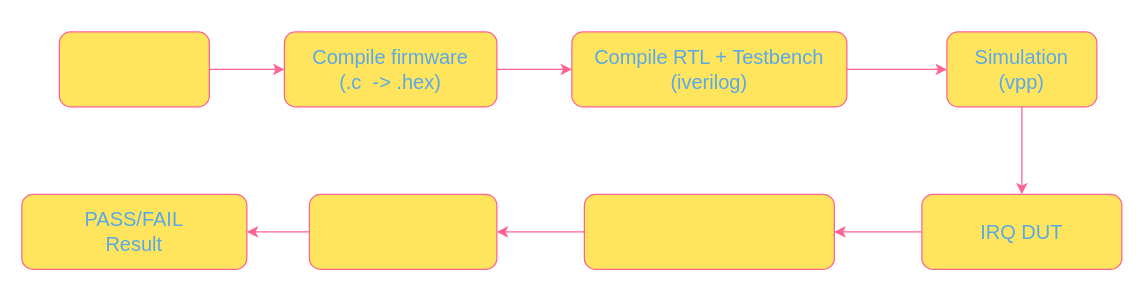
Some shapes in this 1144 by 291 pixel diagram are drawn without their labels. Here are the shapes that lost their labels. From the top down, the centre of each, then its label:
At pixel 133 69: "Makefile".
At pixel 402 231: "Testbench Verification".
At pixel 708 231: "Interrupt Generation & Handling".
